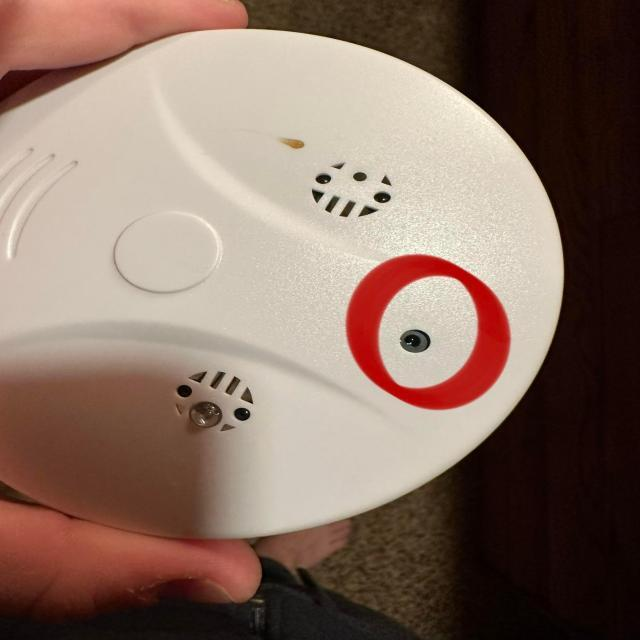hidden camera: (404, 334, 421, 348)
